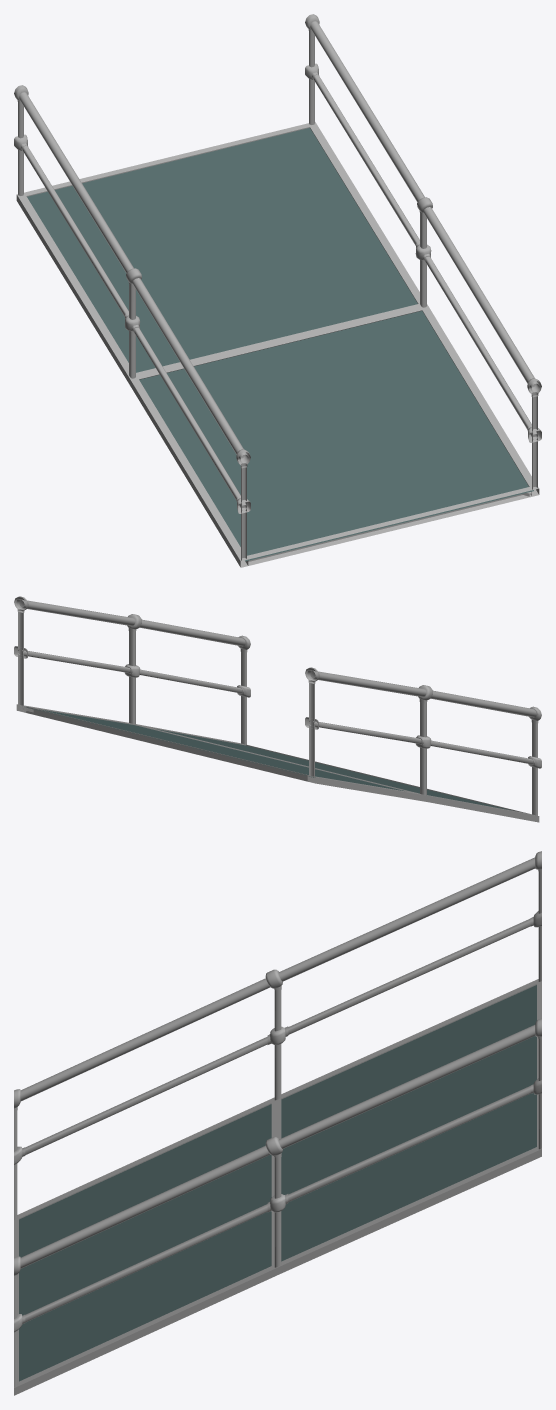
File: RailWalk_Ramp.fbx
3 views of the same model, one above another, from view 1: azimuth 30°, elevation 25°; view 2: azimuth 150°, elevation 25°; view 3: azimuth 270°, elevation 25° (orthographic). The views are drawn at different scales.
Visible parts, largest first — view 1: RampsCombined_RailWalk_Ramp_lineplank14, RampsCombined_RailWalk_Ramp_midrailing06, RampsCombined_RailWalk_Ramp_midrailing02; view 2: RampsCombined_RailWalk_Ramp_lineplank14, RampsCombined_RailWalk_Ramp_midrailing06, RampsCombined_RailWalk_Ramp_midrailing02; view 3: RampsCombined_RailWalk_Ramp_lineplank14, RampsCombined_RailWalk_Ramp_midrailing02, RampsCombined_RailWalk_Ramp_midrailing06.
Part boxes in pixels (left/top/right/bottom): RampsCombined_RailWalk_Ramp_lineplank14: left=16, top=122, right=539, bottom=567; RampsCombined_RailWalk_Ramp_midrailing06: left=305, top=14, right=541, bottom=489; RampsCombined_RailWalk_Ramp_midrailing02: left=14, top=85, right=250, bottom=560; RampsCombined_RailWalk_Ramp_lineplank14: left=16, top=704, right=539, bottom=822; RampsCombined_RailWalk_Ramp_midrailing06: left=14, top=596, right=250, bottom=744; RampsCombined_RailWalk_Ramp_midrailing02: left=305, top=667, right=541, bottom=815; RampsCombined_RailWalk_Ramp_lineplank14: left=14, top=979, right=541, bottom=1395; RampsCombined_RailWalk_Ramp_midrailing02: left=14, top=851, right=541, bottom=1219; RampsCombined_RailWalk_Ramp_midrailing06: left=14, top=1018, right=541, bottom=1387.
Size of the model in its own units: 2.36 by 2.35 by 3.
